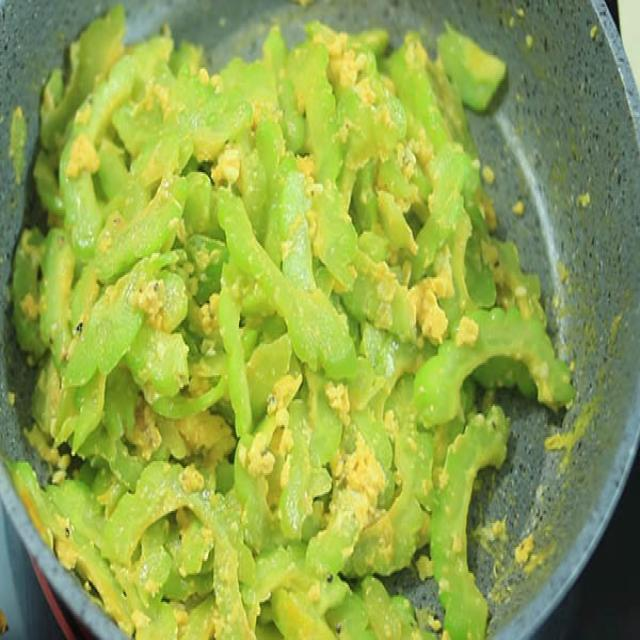kho qua: (11, 7, 571, 638)
